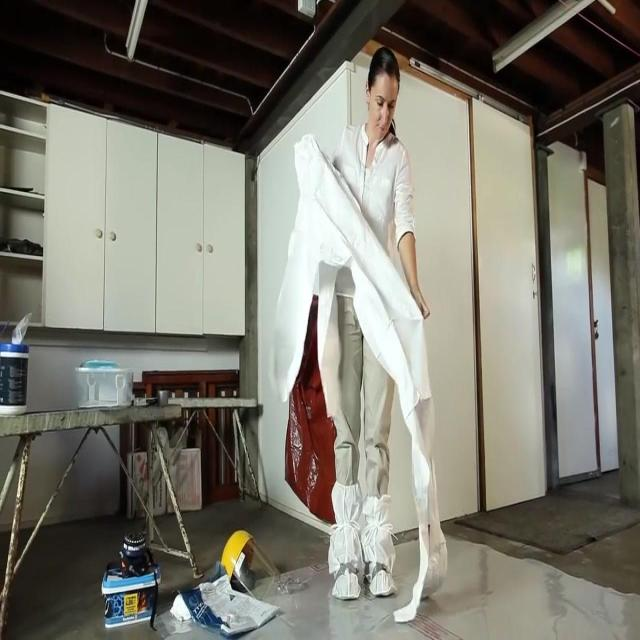Coverall: (279, 147, 463, 600)
